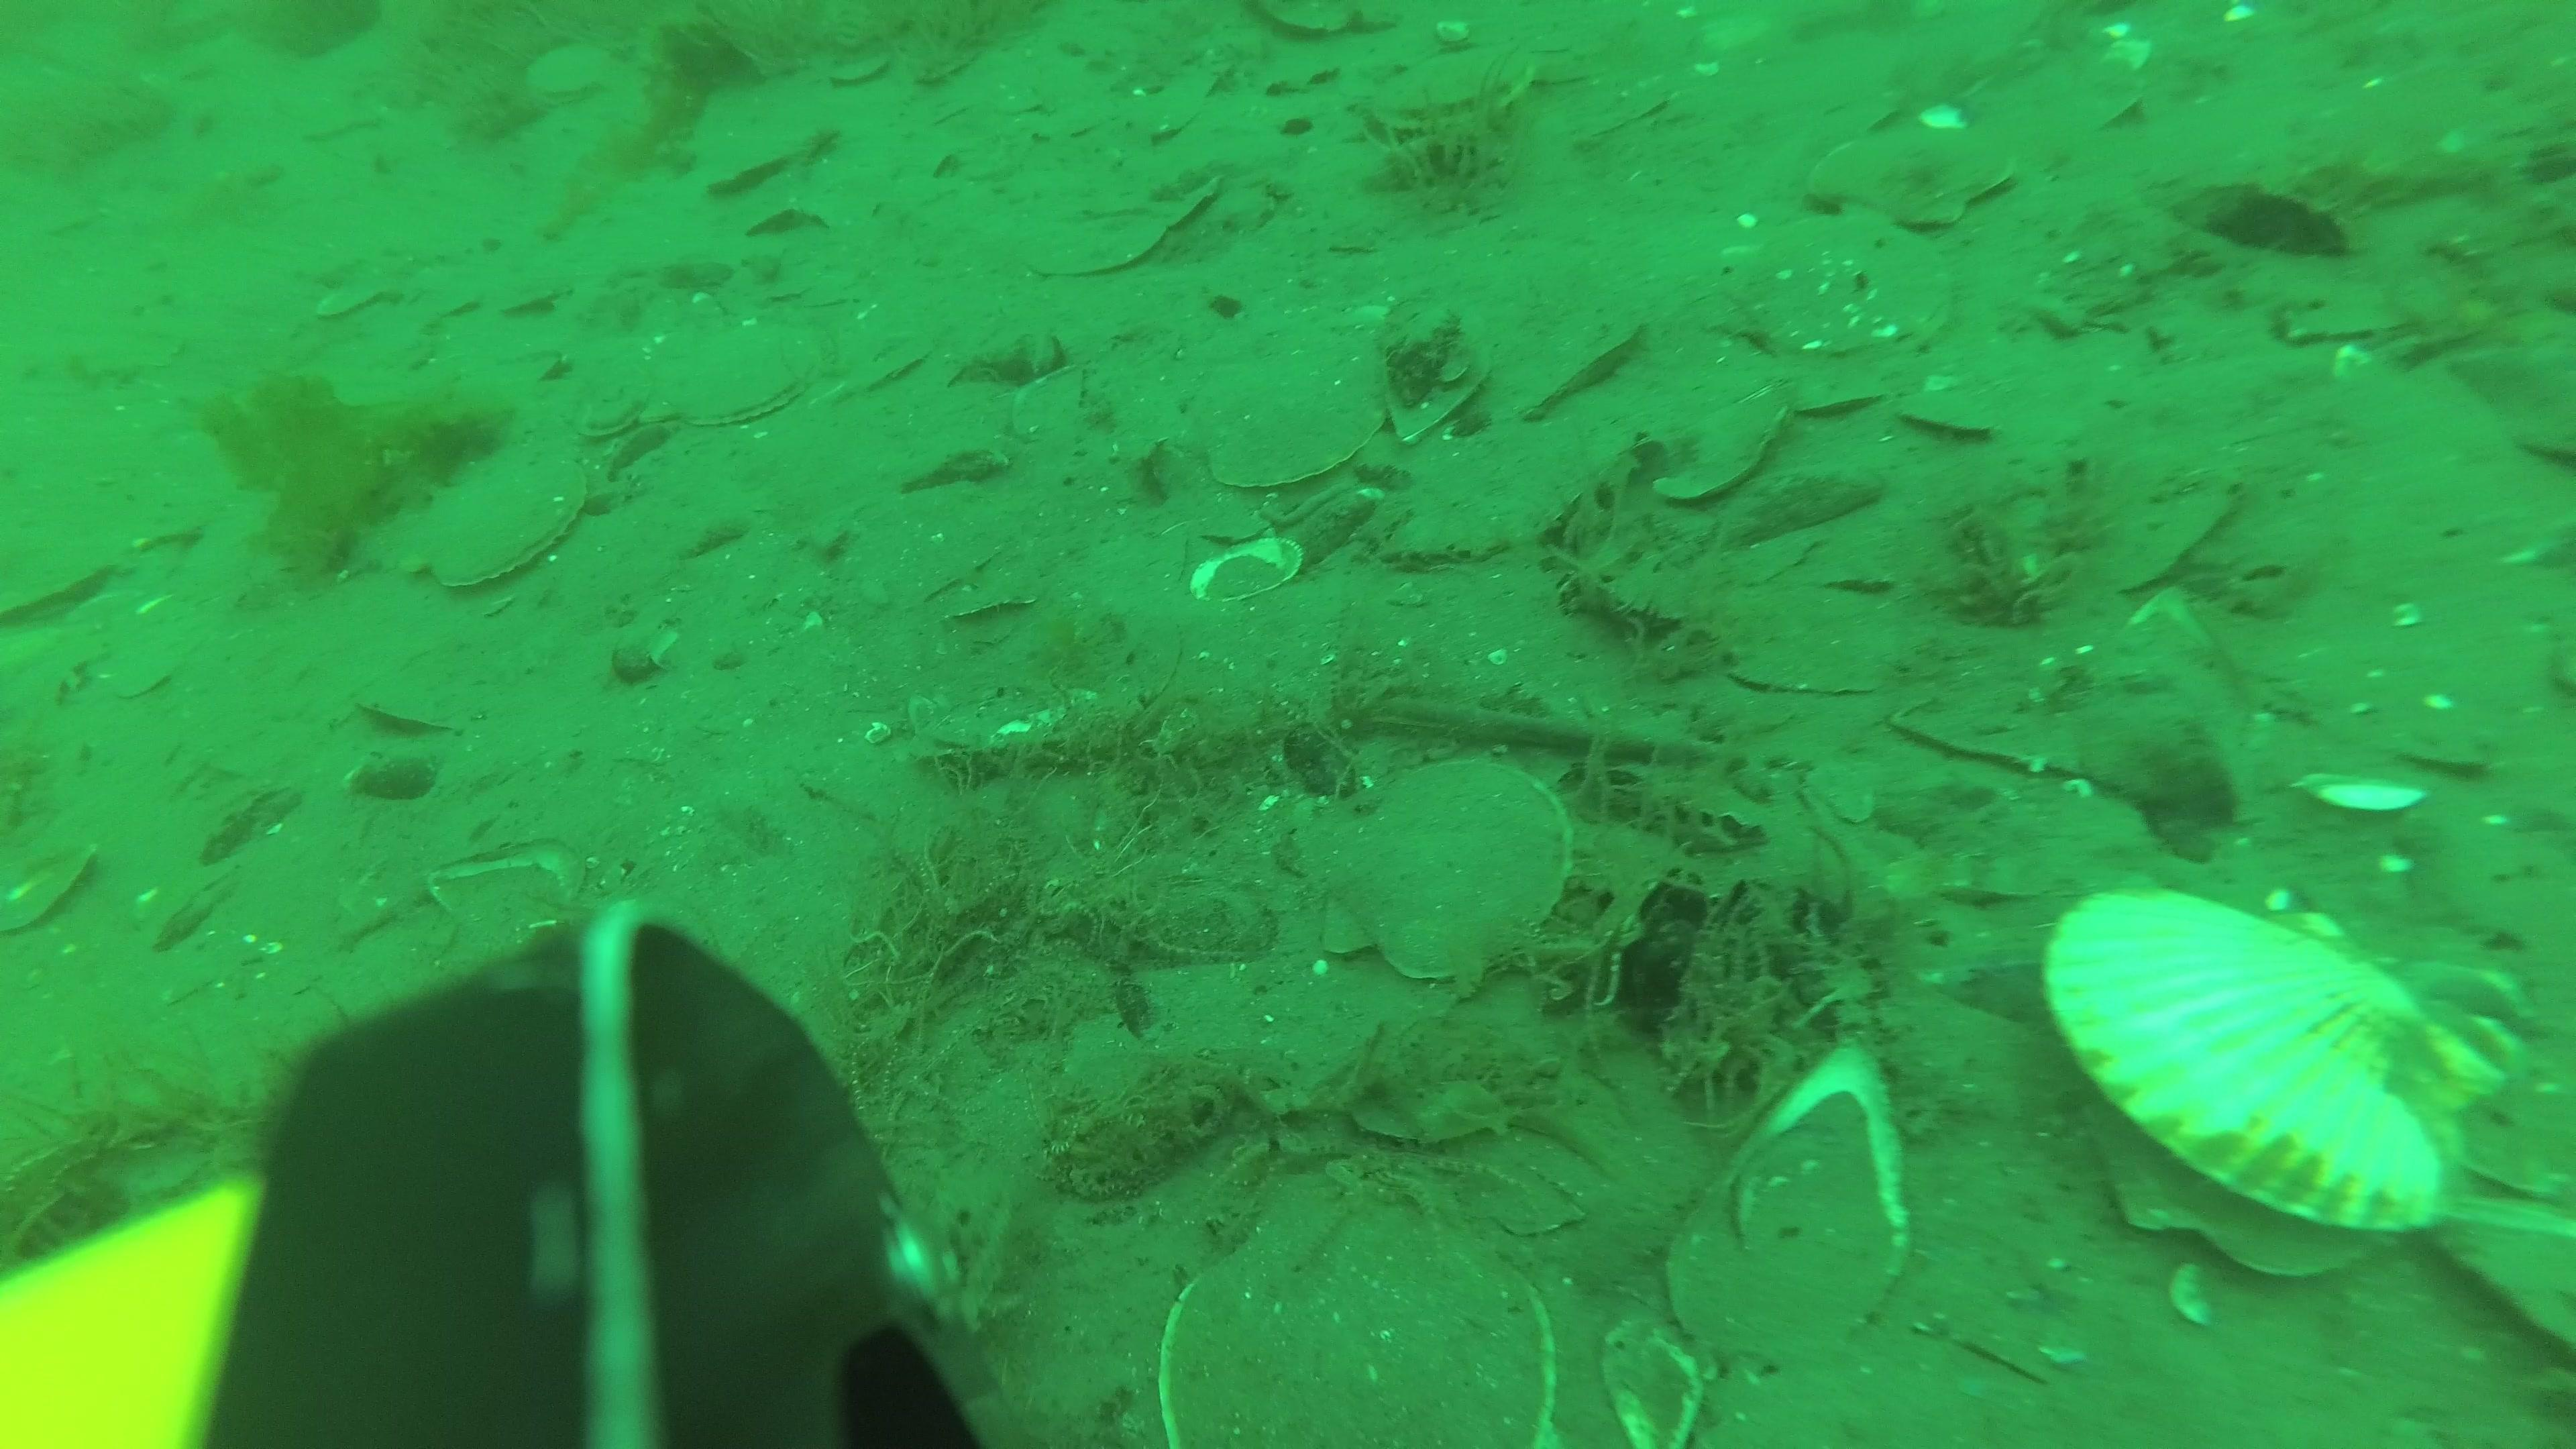scallop: (2049, 883, 2514, 1258), (1302, 757, 1578, 996), (1732, 203, 1957, 366), (1200, 357, 1391, 497), (1819, 115, 2017, 241), (1481, 288, 1647, 425), (1640, 350, 1794, 497), (421, 460, 591, 593), (635, 331, 821, 441), (1362, 41, 1541, 150), (701, 104, 833, 203), (4, 534, 133, 630), (520, 35, 614, 111), (1905, 379, 1999, 437), (582, 384, 649, 446)
